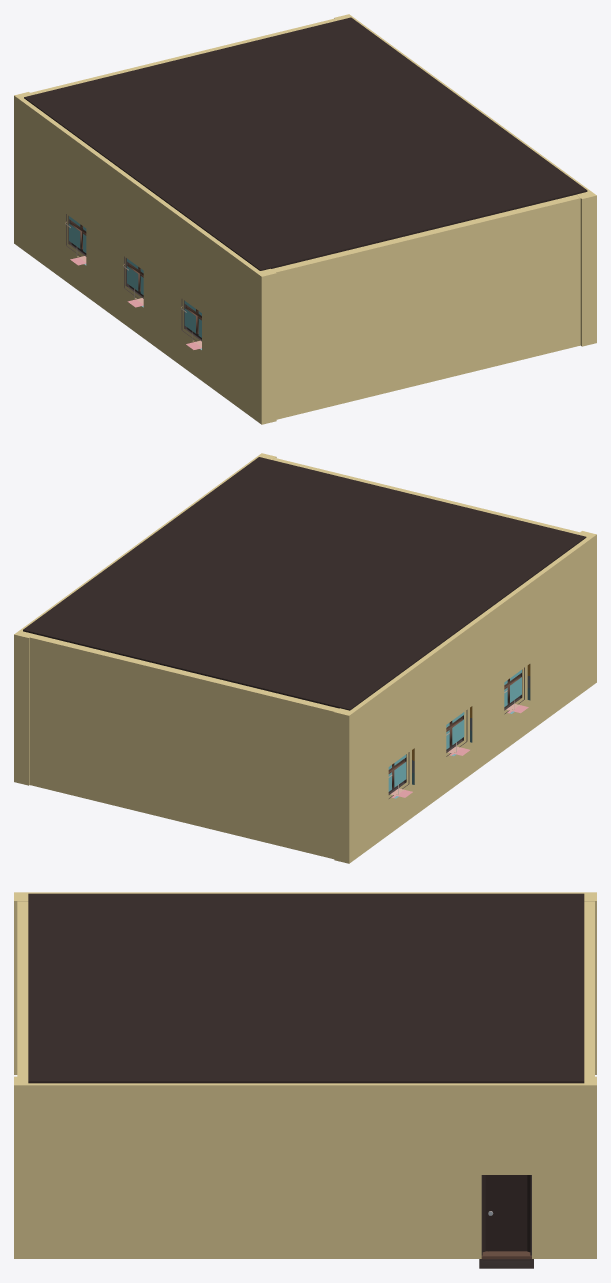
File: Klassenraum.fbx
3 renders of one model, top to bottom at view 1: azimuth 30°, elevation 25°; view 2: azimuth 150°, elevation 25°; view 3: azimuth 270°, elevation 25°, orthographic. The views are drawn at different scales.
Parts seen in each view (by area): view 1: Decke, Wand.004, Wand.003, Wand.002, Cube.005, Wand.001; view 2: Decke, Wand.001, Wand.003, Wand.002, Cube.005, Wand.004; view 3: Decke, Wand.002, Tür.002, Wand.003, Wand.004, Wand.001.
Part boxes in pixels (left/top/right/bottom): Decke: left=24, top=17, right=587, bottom=270; Wand.004: left=271, top=195, right=580, bottom=419; Wand.003: left=14, top=92, right=276, bottom=424; Wand.002: left=334, top=14, right=596, bottom=346; Cube.005: left=65, top=214, right=201, bottom=349; Wand.001: left=30, top=15, right=357, bottom=94; Decke: left=23, top=457, right=586, bottom=710; Wand.001: left=15, top=628, right=338, bottom=859; Wand.003: left=334, top=531, right=596, bottom=863; Wand.002: left=14, top=453, right=276, bottom=785; Cube.005: left=388, top=664, right=530, bottom=798; Wand.004: left=273, top=458, right=579, bottom=534; Decke: left=28, top=893, right=584, bottom=1083; Wand.002: left=14, top=1076, right=596, bottom=1258; Tür.002: left=479, top=1175, right=533, bottom=1268; Wand.003: left=14, top=892, right=596, bottom=1074; Wand.004: left=17, top=901, right=28, bottom=1076; Wand.001: left=574, top=901, right=594, bottom=1084.
Size of the model in its own units: 1178 by 539 by 1509.
